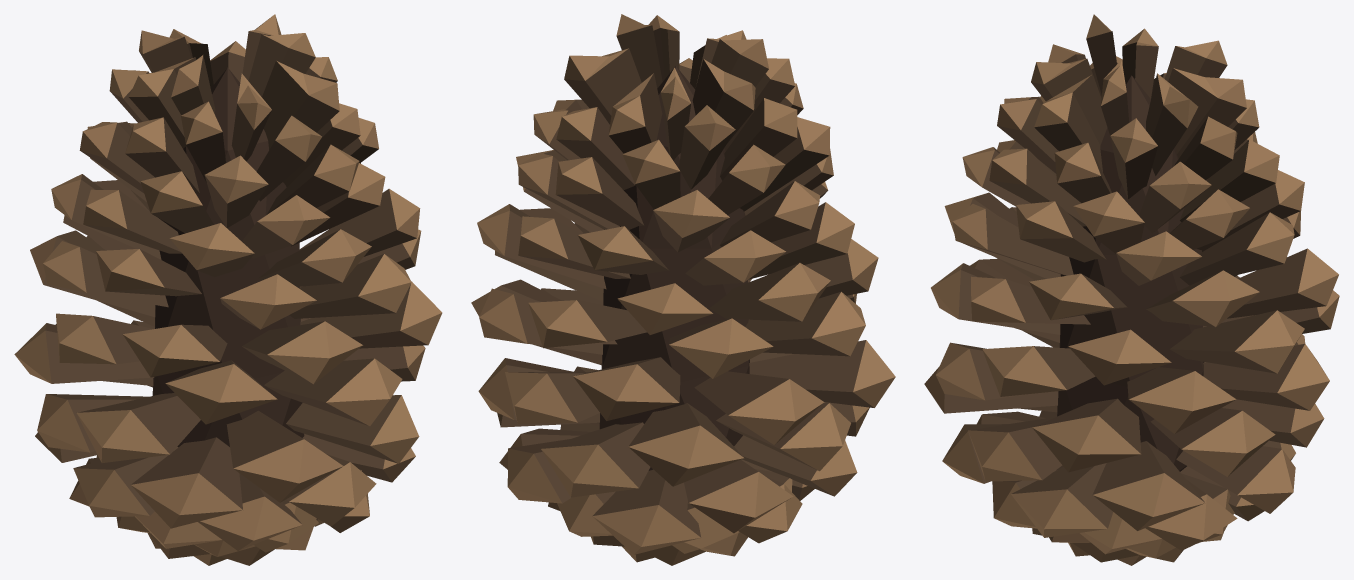
Rendered from pine-cone-e36f37.glb.
The picture shows the model from 3 angles, left to right: view 1: azimuth 30°, elevation 25°; view 2: azimuth 150°, elevation 25°; view 3: azimuth 270°, elevation 25°; orthographic projection.
Visible parts, largest first — view 1: pine-cone-mesh; view 2: pine-cone-mesh; view 3: pine-cone-mesh.
Boxes of the visible parts, left/top/right/bottom form: pine-cone-mesh: left=14, top=14, right=442, bottom=565; pine-cone-mesh: left=471, top=14, right=895, bottom=565; pine-cone-mesh: left=924, top=14, right=1339, bottom=565.
Size of the model in its own units: 6.06 by 8 by 6.08.
